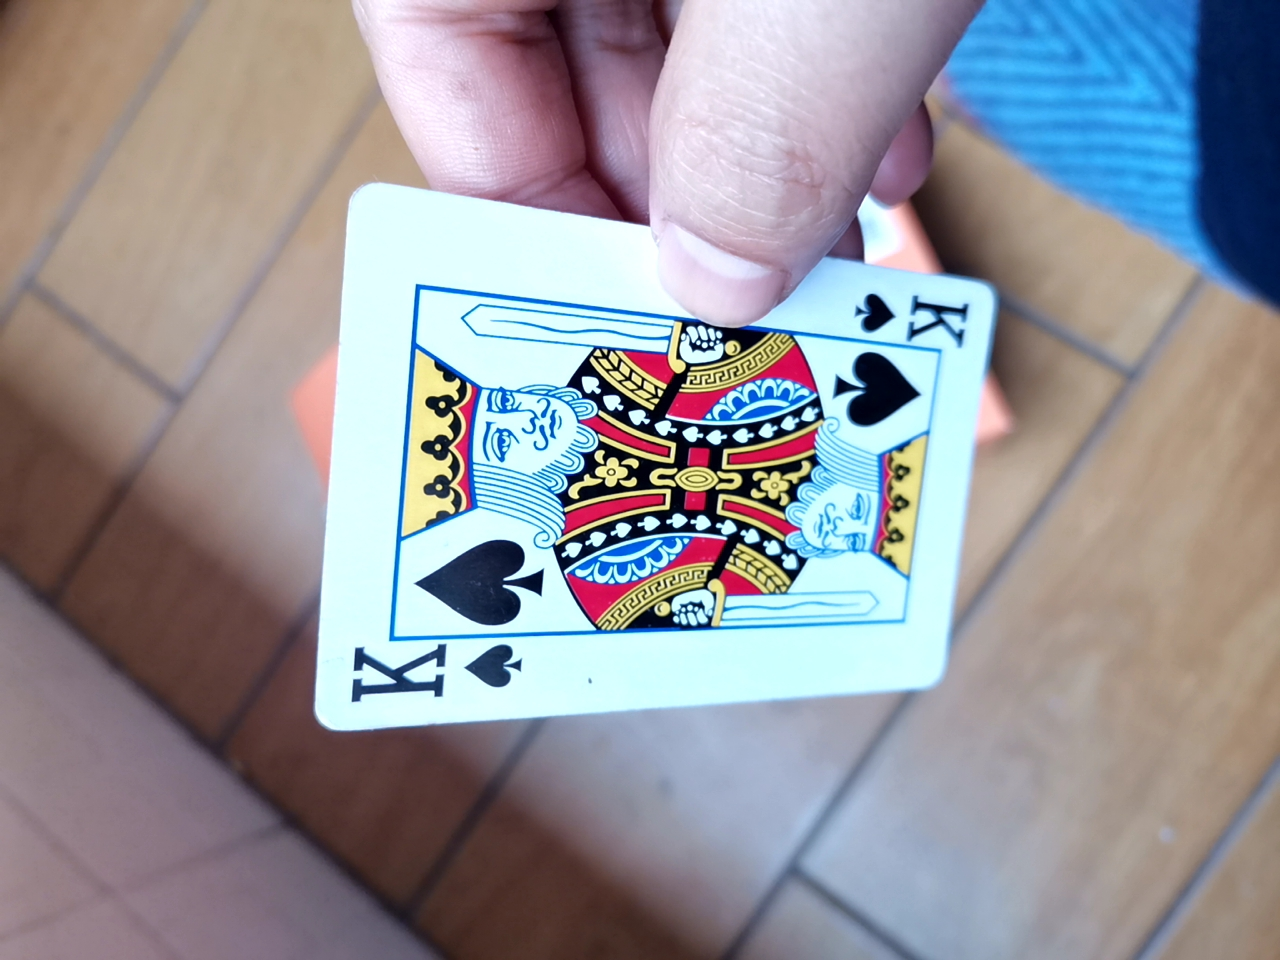ht k: (303, 188, 996, 749)
